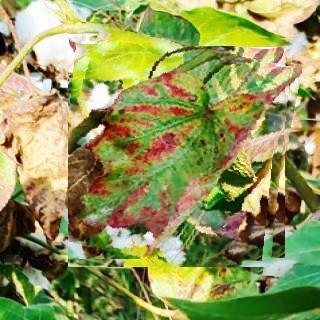blight: (68, 35, 294, 267)
